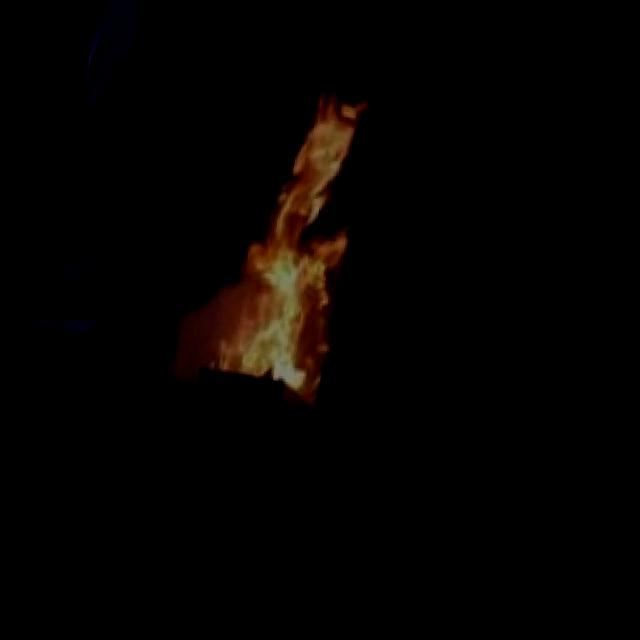fire: (176, 52, 402, 417)
